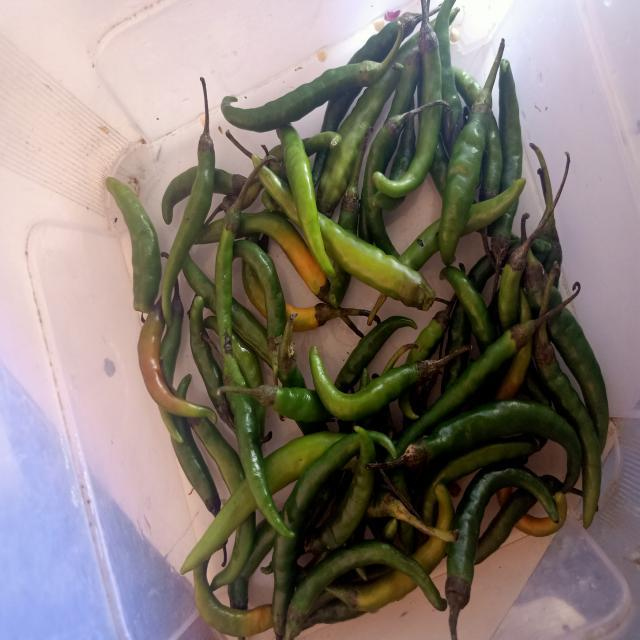Green Chilly: (399, 296, 575, 453), (221, 12, 420, 131), (446, 467, 554, 640), (271, 433, 361, 639), (397, 400, 583, 492), (285, 541, 448, 640), (439, 37, 505, 265), (535, 323, 603, 529), (161, 76, 215, 326), (319, 211, 436, 310), (310, 346, 440, 421), (137, 301, 216, 423), (279, 123, 335, 277), (233, 240, 286, 384), (105, 176, 161, 312), (180, 479, 256, 575), (373, 104, 442, 197), (193, 561, 273, 638), (264, 432, 343, 494), (250, 385, 333, 422), (418, 0, 442, 104), (542, 266, 556, 313)
